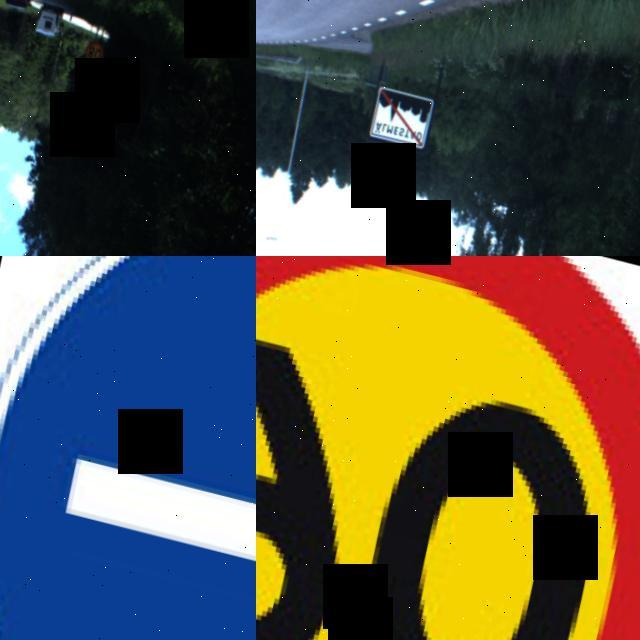128: (362, 81, 437, 152)
55: (370, 142, 406, 184), (77, 37, 106, 70)
94: (0, 256, 256, 640)
speed limit-90: (256, 256, 640, 640)
